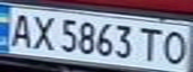3: (112, 21, 139, 61)
5: (54, 16, 81, 54)
6: (93, 20, 118, 57)
8: (75, 19, 96, 56)
A: (3, 9, 36, 48)
O: (160, 28, 193, 66)
T: (136, 25, 166, 63)
X: (27, 12, 57, 52)
